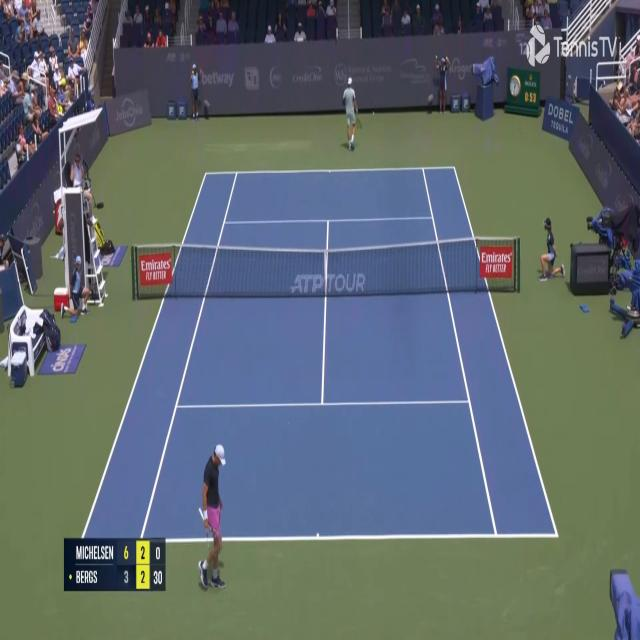tennis-player: (197, 442, 228, 590), (342, 75, 362, 153)
